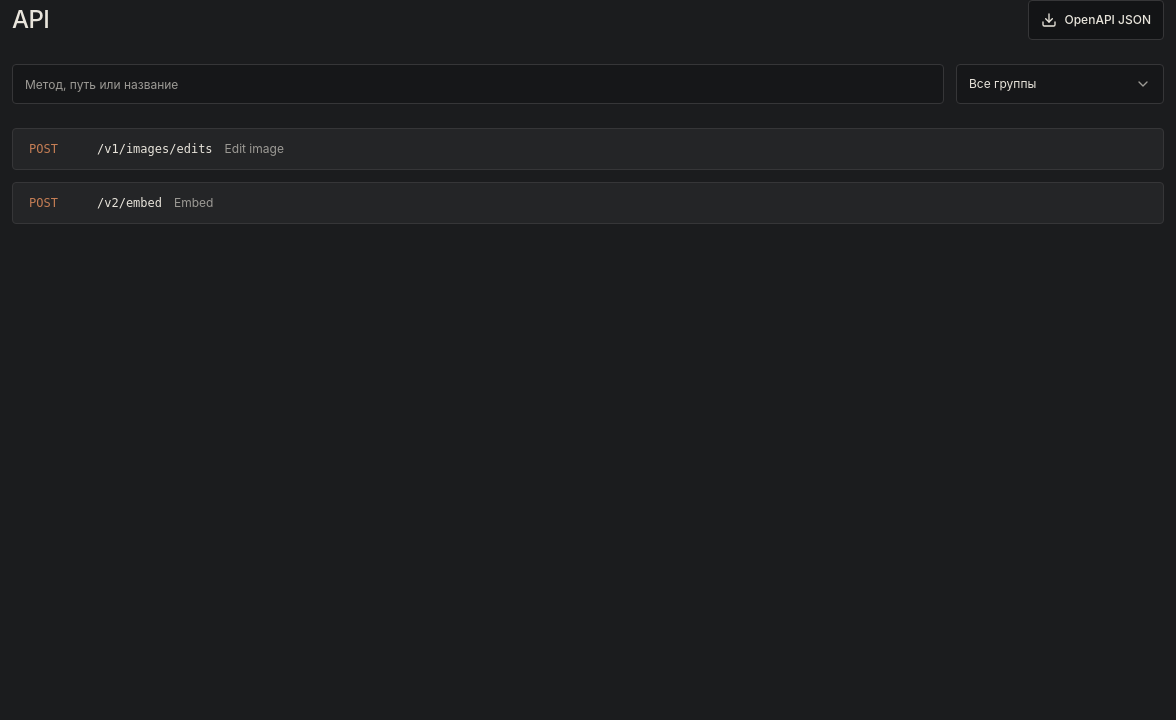
Test: API docs provider schema › renders multipart fields and binary file example from OpenAPI
The image size is (1176, 720).
Click the text "/v1/images/edits" at {"x": 155, "y": 149}, box [97,141,213,157]
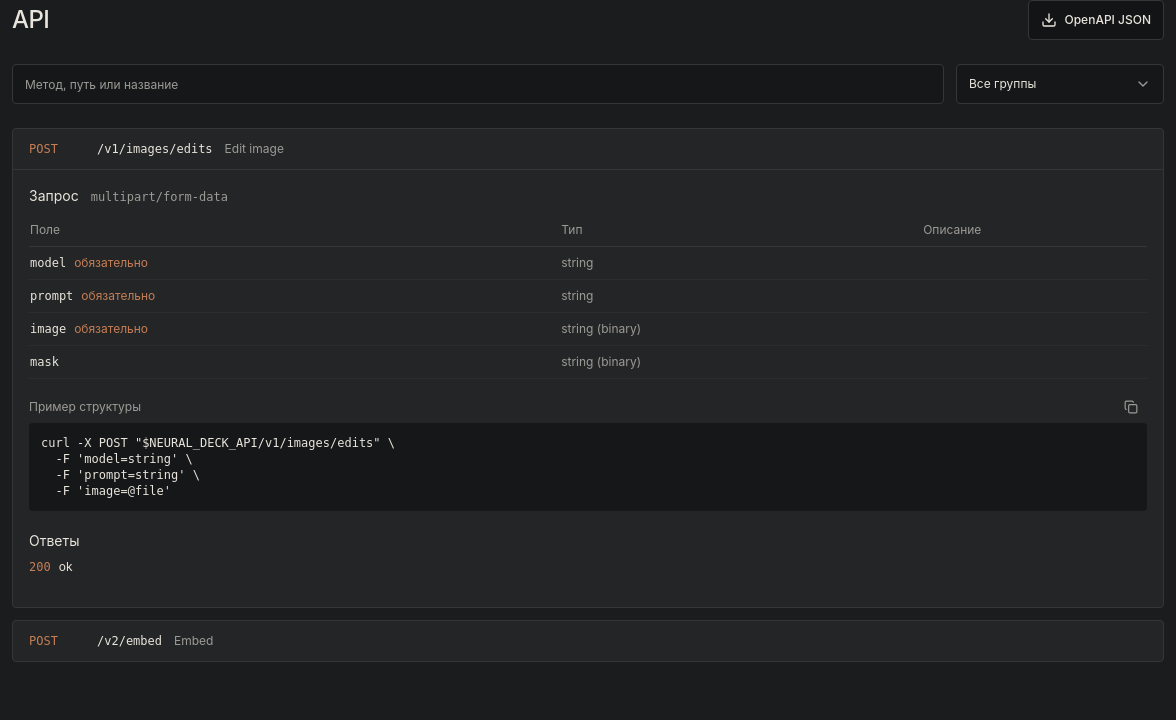
Result: the text "image" is shown at [30,322,66,336]
Result: the text "mask" is shown at [29,346,560,378]
Result: the text "-F 'image=@file'" is shown at [41,436,395,498]
